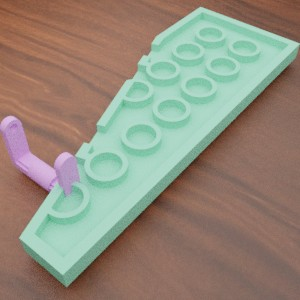lego: (19, 6, 300, 287), (0, 116, 81, 202)
